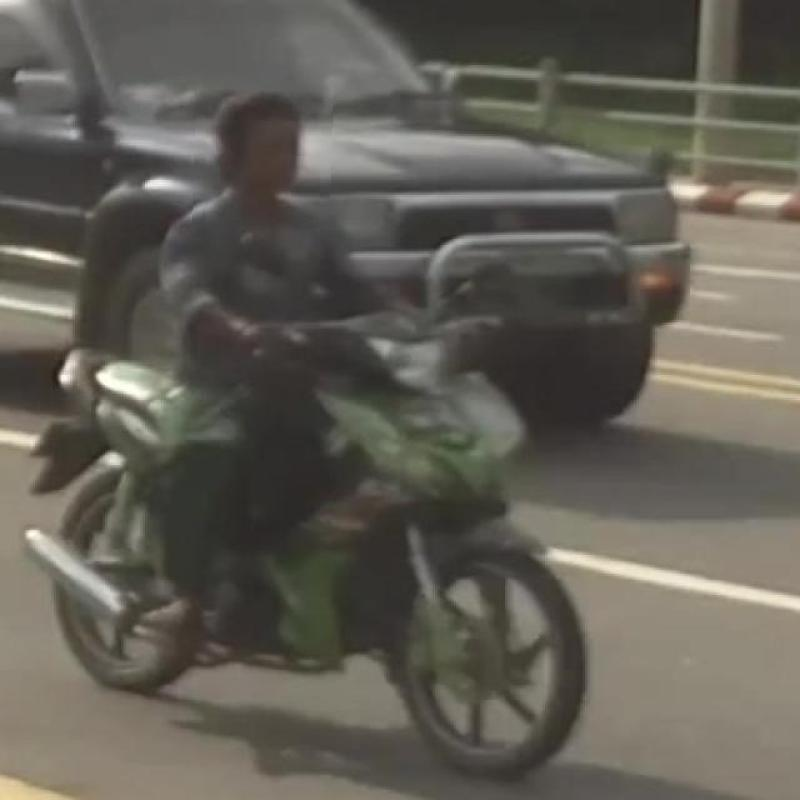nohelmet: (193, 81, 332, 228)
